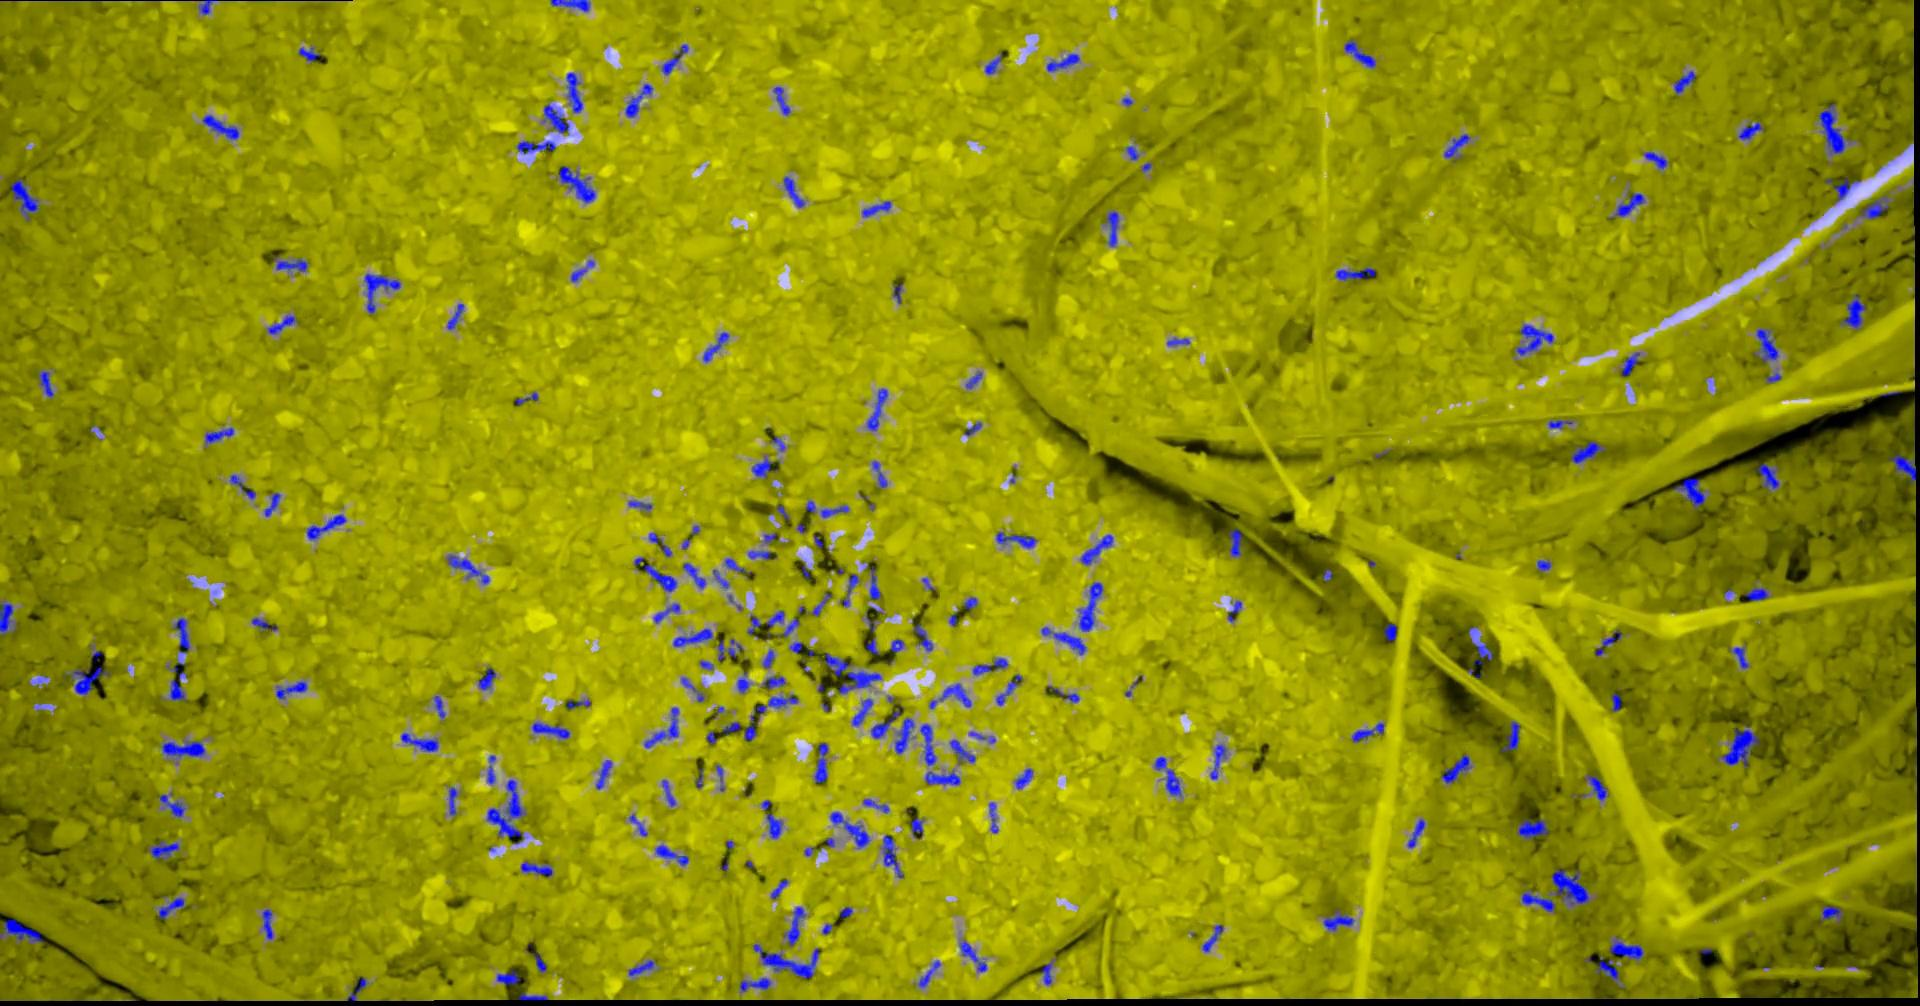ant: (819, 652, 881, 694), (486, 779, 524, 843), (752, 942, 819, 978), (1721, 725, 1759, 767), (829, 810, 869, 847), (1888, 431, 1916, 481), (557, 165, 596, 202), (1550, 868, 1589, 904), (364, 273, 400, 312), (643, 708, 678, 747), (1818, 103, 1845, 152), (10, 178, 39, 220), (1041, 626, 1084, 654), (1078, 582, 1102, 631), (447, 555, 489, 583), (69, 666, 110, 694), (1515, 324, 1553, 354), (870, 705, 902, 738), (928, 683, 971, 708), (0, 918, 43, 942), (1672, 478, 1704, 509), (1079, 533, 1112, 564), (306, 514, 345, 539), (866, 387, 888, 431), (625, 83, 651, 117), (1839, 293, 1865, 328), (753, 694, 797, 714), (201, 114, 237, 138), (1343, 39, 1375, 67), (643, 564, 676, 591), (1609, 935, 1643, 960), (1440, 754, 1470, 782), (883, 835, 903, 876), (783, 906, 805, 945), (1754, 328, 1778, 362), (959, 940, 985, 970), (1570, 441, 1604, 464), (662, 44, 688, 74), (672, 627, 712, 647), (996, 674, 1021, 705), (761, 800, 781, 838), (1594, 629, 1622, 655), (702, 332, 728, 361), (1521, 889, 1556, 911), (543, 103, 568, 133), (160, 741, 204, 757), (400, 732, 438, 751), (655, 843, 688, 865), (1615, 192, 1644, 216), (894, 716, 913, 753), (229, 474, 255, 499), (1595, 956, 1619, 984), (996, 531, 1036, 547), (1443, 133, 1469, 158), (1832, 177, 1859, 201), (1860, 196, 1888, 218), (919, 723, 935, 765), (971, 657, 1007, 674), (531, 721, 569, 738), (783, 177, 804, 207), (682, 561, 705, 588), (949, 739, 975, 762), (1583, 774, 1606, 800), (157, 794, 184, 817), (157, 897, 184, 920), (1351, 721, 1383, 741), (566, 72, 582, 112), (1517, 818, 1547, 838), (150, 840, 179, 860), (1323, 909, 1352, 930), (1046, 53, 1079, 71), (169, 666, 185, 701), (1672, 70, 1695, 95), (267, 315, 297, 334), (1756, 464, 1779, 489), (1500, 721, 1519, 752), (851, 699, 872, 725), (918, 960, 940, 987), (1201, 923, 1222, 951), (173, 617, 189, 652), (1209, 744, 1225, 779), (841, 574, 858, 606), (1048, 685, 1079, 702), (648, 532, 670, 556), (717, 638, 742, 661), (276, 681, 306, 699), (913, 622, 932, 650), (570, 259, 594, 281), (1335, 267, 1375, 279), (814, 742, 827, 782), (345, 976, 366, 1001), (750, 459, 777, 478), (653, 603, 679, 622), (516, 140, 555, 152), (924, 770, 960, 784), (1470, 643, 1492, 666), (861, 199, 890, 216), (273, 257, 307, 271), (521, 861, 551, 876), (773, 86, 790, 114), (204, 427, 232, 443), (1164, 768, 1181, 796), (1407, 819, 1423, 847), (1738, 119, 1763, 138), (811, 591, 830, 615), (1818, 904, 1843, 923), (1105, 211, 1117, 246), (446, 304, 463, 329), (550, 0, 589, 11), (596, 760, 611, 789), (1620, 352, 1639, 375), (0, 601, 13, 635), (776, 617, 799, 636), (1643, 151, 1667, 169), (1227, 528, 1242, 556), (739, 977, 770, 991), (629, 959, 654, 976), (872, 460, 888, 486), (724, 558, 750, 573), (744, 714, 759, 741), (662, 779, 676, 807), (629, 814, 648, 835), (477, 667, 495, 688), (984, 51, 1001, 74), (869, 567, 880, 600), (39, 370, 53, 396), (264, 492, 279, 516), (770, 878, 787, 898), (1732, 647, 1749, 668), (820, 504, 848, 517), (789, 641, 814, 655), (862, 799, 888, 813), (497, 969, 519, 984), (969, 730, 996, 743), (1015, 768, 1032, 788), (1743, 586, 1768, 600), (251, 617, 277, 630), (766, 610, 783, 627), (531, 951, 546, 972), (298, 47, 320, 61), (1227, 600, 1241, 621), (763, 674, 785, 688), (262, 909, 272, 939), (198, 0, 217, 15), (712, 569, 728, 588), (737, 671, 749, 692), (965, 371, 982, 387), (988, 801, 997, 832), (865, 636, 879, 655), (433, 695, 444, 718), (1040, 962, 1051, 984), (448, 786, 457, 815), (747, 614, 759, 634), (486, 754, 495, 782), (516, 392, 537, 404), (910, 817, 922, 838), (566, 699, 590, 709), (1383, 622, 1396, 641), (517, 992, 549, 1000), (748, 550, 775, 559), (629, 500, 651, 511), (964, 422, 982, 434), (762, 649, 775, 667), (721, 721, 740, 733), (1548, 419, 1572, 428), (891, 283, 902, 304), (1166, 337, 1189, 345), (1610, 694, 1620, 711), (1537, 559, 1550, 572), (889, 639, 903, 652), (1126, 145, 1138, 159), (963, 597, 977, 608), (1154, 756, 1166, 770)
